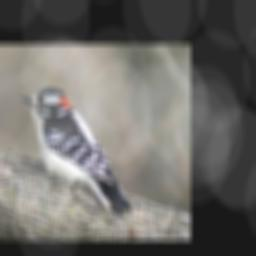Woodpecker: (21, 89, 135, 215)
